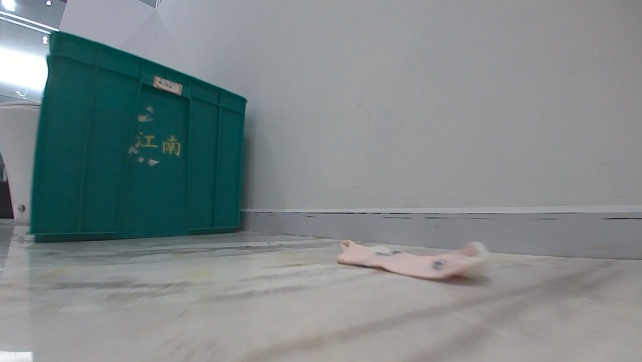socks: (334, 237, 488, 285)
toilet: (0, 99, 47, 226)
